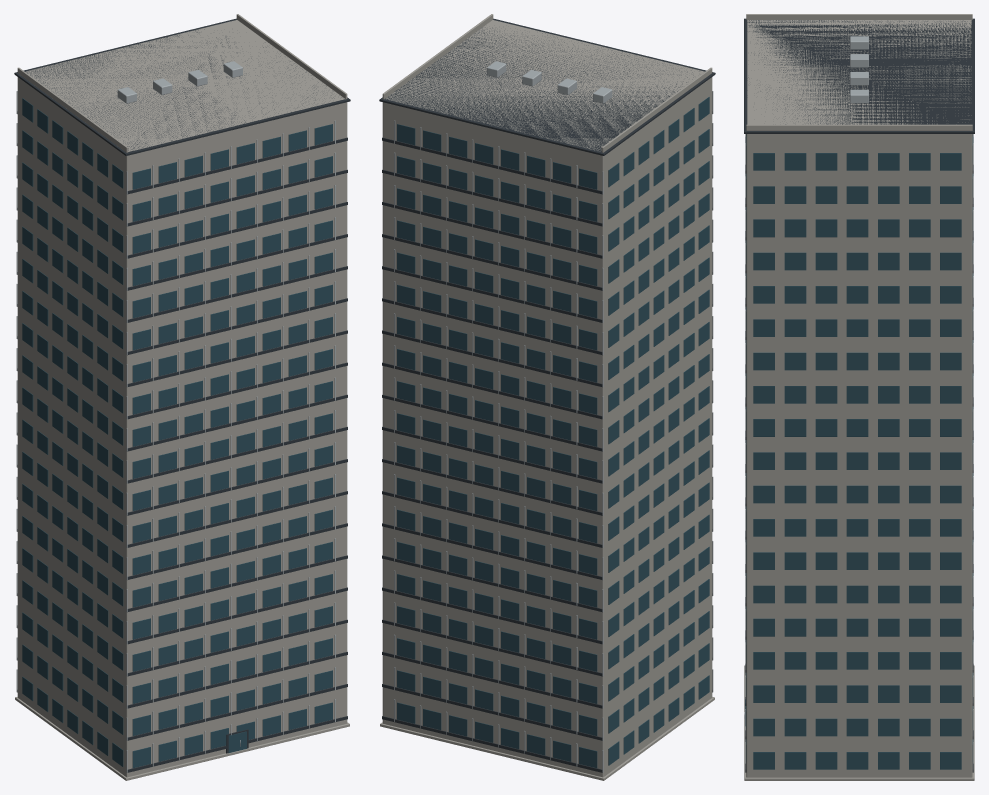
File: SM_Office.fbx
3 views of the same model, side by side, from view 1: azimuth 30°, elevation 25°; view 2: azimuth 150°, elevation 25°; view 3: azimuth 270°, elevation 25° (orthographic). The views are drawn at different scales.
Parts seen in each view (by area): view 1: SM_Office; view 2: SM_Office; view 3: SM_Office.
Part boxes in pixels (bbox=[...]): SM_Office: bbox=[14, 14, 350, 780]; SM_Office: bbox=[379, 14, 715, 780]; SM_Office: bbox=[744, 14, 974, 780].
Bounding box in the file's own units: 2850 × 2450 × 7700.
